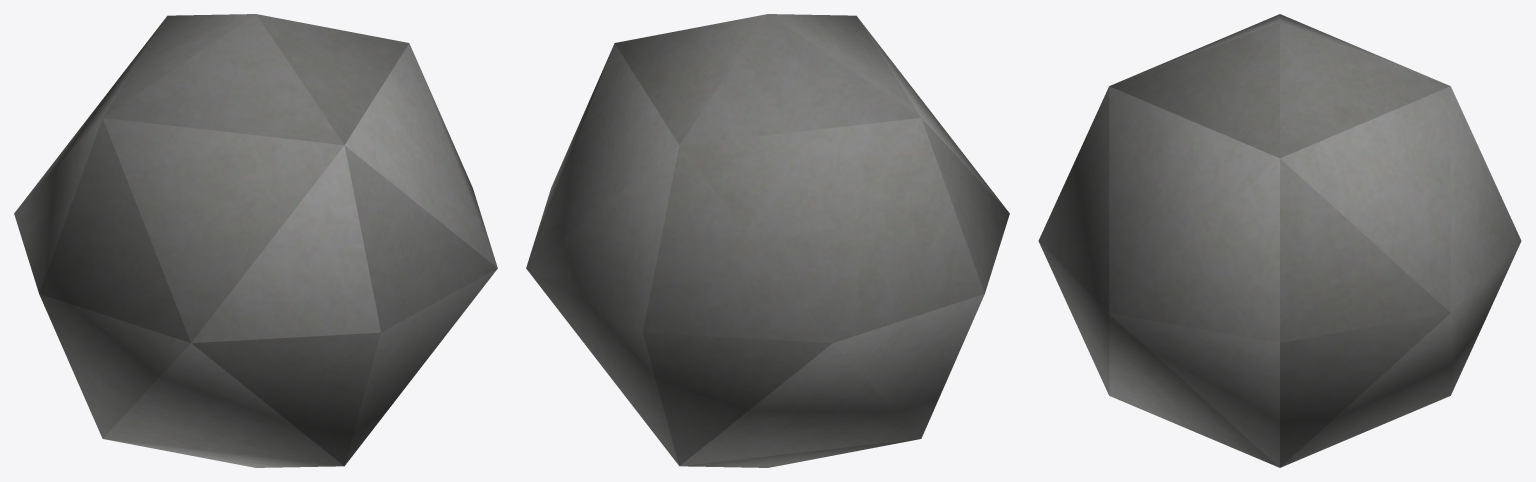
The model's file is Rock-03.fbx.
3 renders of one model, left to right at view 1: azimuth 30°, elevation 25°; view 2: azimuth 150°, elevation 25°; view 3: azimuth 270°, elevation 25°, orthographic. The views are drawn at different scales.
Visible parts, largest first — view 1: Rock-03; view 2: Rock-03; view 3: Rock-03.
Boxes of the visible parts, x1=… form: Rock-03: x1=14, y1=14, x2=497, y2=467; Rock-03: x1=526, y1=14, x2=1009, y2=467; Rock-03: x1=1038, y1=14, x2=1521, y2=467.
Bounding box in the file's own units: 0.3602 × 0.3602 × 0.3602.
